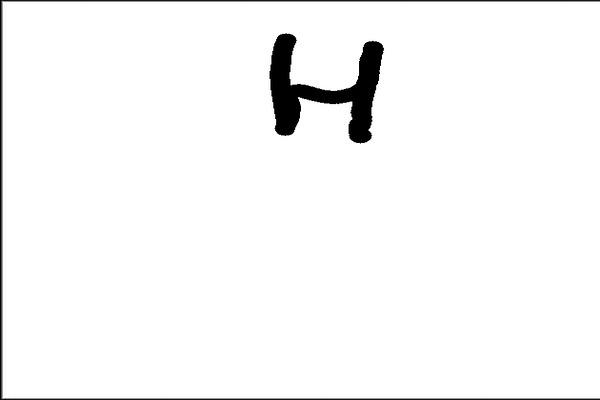H: (266, 27, 387, 149)
